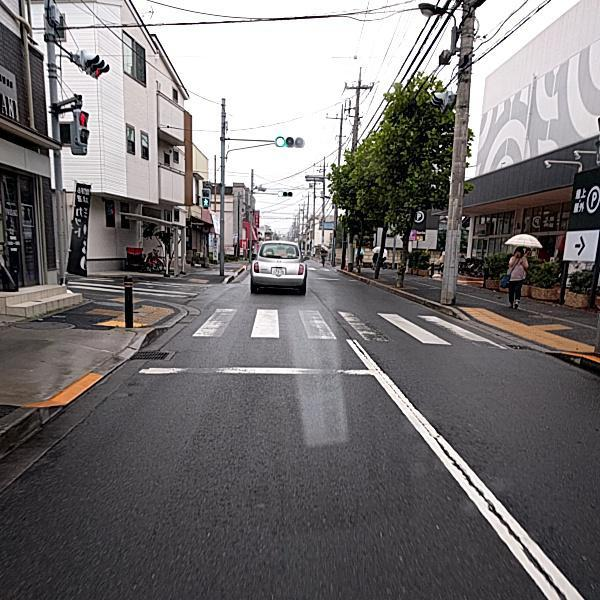D43: (196, 299, 400, 342)
D44: (143, 358, 370, 378)
